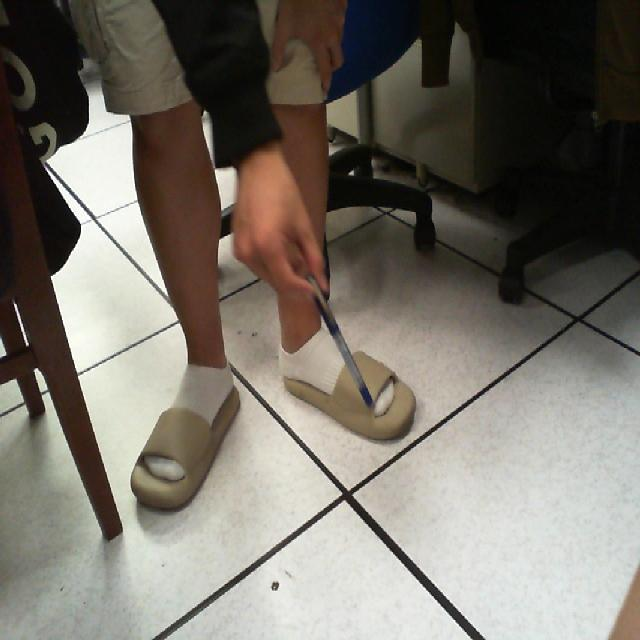Pen: (291, 252, 388, 429)
